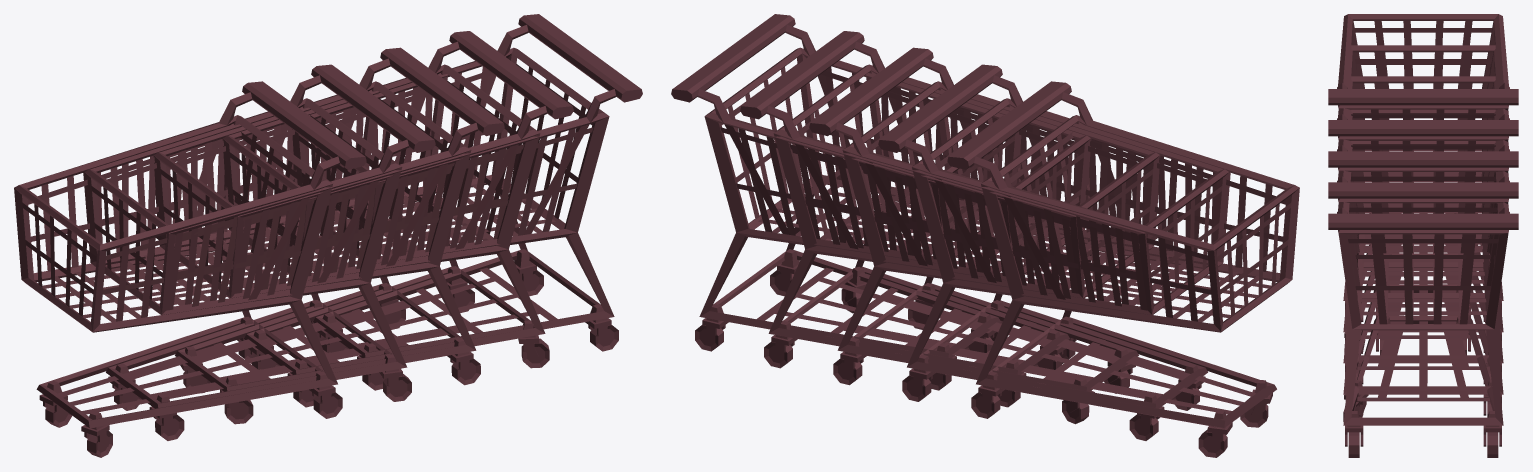
The model's file is shopping-trolley-row.fbx.
The picture shows the model from 3 angles, left to right: view 1: azimuth 30°, elevation 25°; view 2: azimuth 150°, elevation 25°; view 3: azimuth 270°, elevation 25°; orthographic projection. The views are drawn at different scales.
Parts seen in each view (by area): view 1: shopping-trolley-row; view 2: shopping-trolley-row; view 3: shopping-trolley-row.
Part boxes in pixels (bbox=[...]): shopping-trolley-row: bbox=[14, 14, 642, 457]; shopping-trolley-row: bbox=[671, 14, 1299, 457]; shopping-trolley-row: bbox=[1328, 14, 1518, 457].
Size of the model in its own units: 2.32 by 1.1 by 0.7741.
